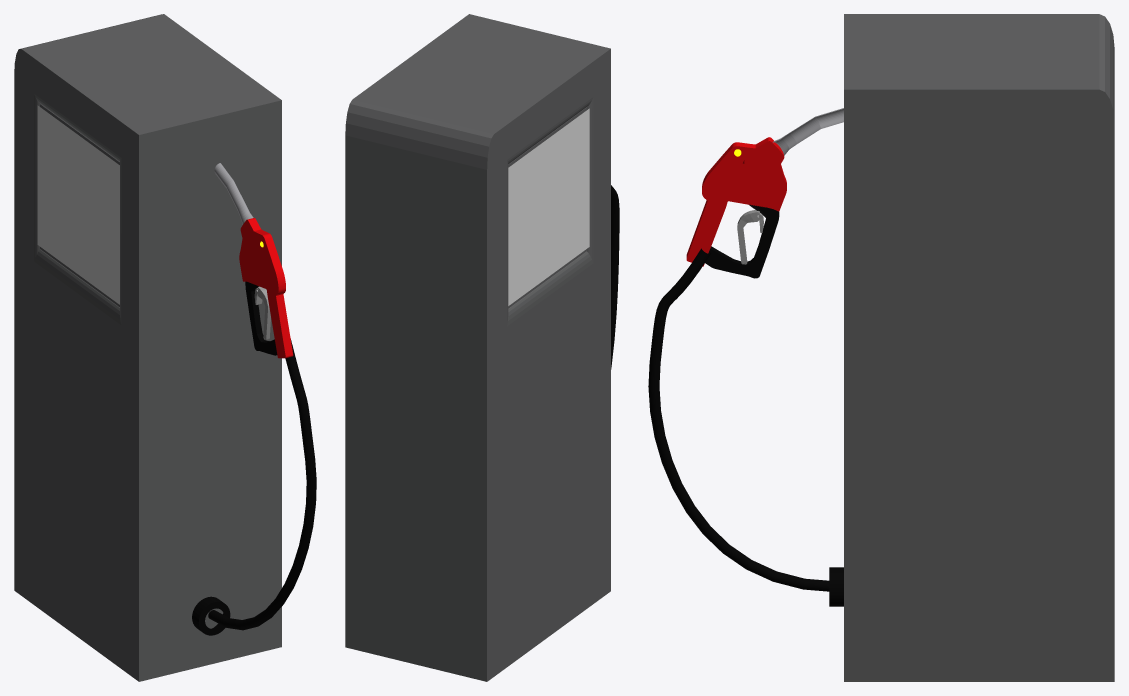
Rendered from gastrunkfine.fbx.
3 renders of one model, left to right at view 1: azimuth 30°, elevation 25°; view 2: azimuth 150°, elevation 25°; view 3: azimuth 270°, elevation 25°, orthographic. The views are drawn at different scales.
Parts seen in each view (by area): view 1: Cube; view 2: Cube; view 3: Cube.
Boxes of the visible parts, left/top/right/bottom form: Cube: left=14, top=14, right=316, bottom=681; Cube: left=345, top=14, right=619, bottom=681; Cube: left=648, top=14, right=1114, bottom=681.
Bounding box in the file's own units: 132 × 483 × 345.
